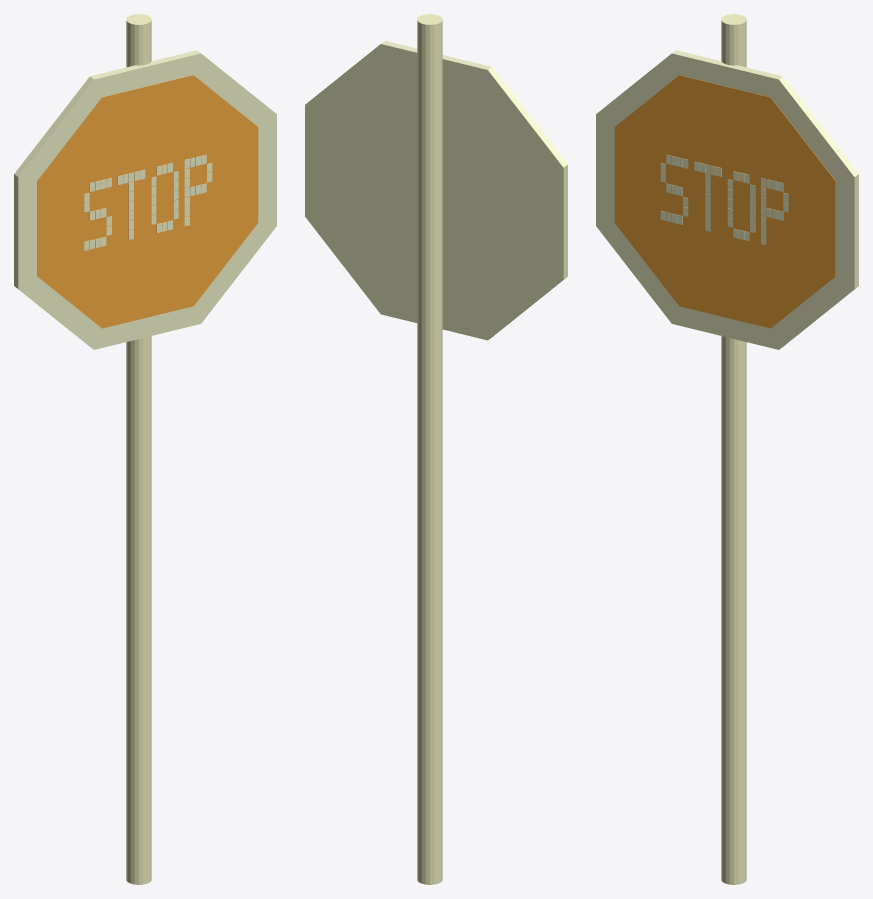
File: sign_stop.glb
3 renders of one model, left to right at view 1: azimuth 30°, elevation 25°; view 2: azimuth 150°, elevation 25°; view 3: azimuth 330°, elevation 25°, orthographic.
Visible parts, largest first — view 1: layer_1_00, plate_base_00, pole; view 2: plate_base_00, pole; view 3: layer_1_00, plate_base_00, pole.
Boxes of the visible parts, x1=… form: layer_1_00: x1=37, y1=75, x2=258, y2=328; plate_base_00: x1=14, y1=50, x2=276, y2=349; pole: x1=126, y1=14, x2=151, y2=884; plate_base_00: x1=305, y1=41, x2=567, y2=340; pole: x1=417, y1=14, x2=442, y2=884; layer_1_00: x1=614, y1=75, x2=835, y2=328; plate_base_00: x1=596, y1=50, x2=858, y2=349; pole: x1=721, y1=14, x2=746, y2=884.
Bounding box in the file's own units: 0.6918 × 2.2 × 0.0725.
